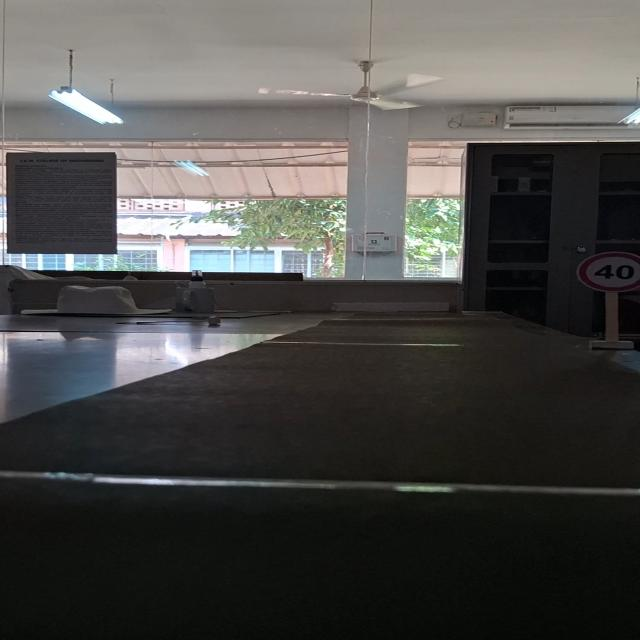Speed40: (573, 250, 640, 294)
